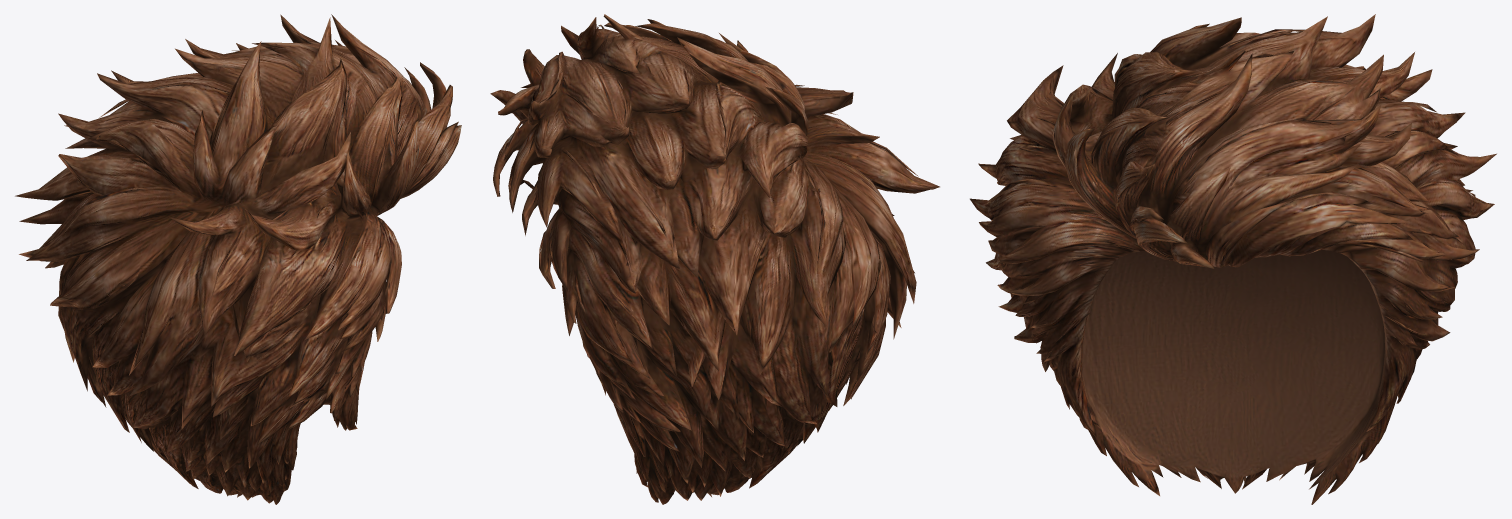
File: crop.glb
3 views of the same model, side by side, from view 1: azimuth 30°, elevation 25°; view 2: azimuth 150°, elevation 25°; view 3: azimuth 270°, elevation 25° (orthographic). The views are drawn at different scales.
Parts seen in each view (by area): view 1: tripo_node_5c7aee2a-5df5-4b18-8791-c4ce81d2a557; view 2: tripo_node_5c7aee2a-5df5-4b18-8791-c4ce81d2a557; view 3: tripo_node_5c7aee2a-5df5-4b18-8791-c4ce81d2a557.
Boxes of the visible parts, x1=… form: tripo_node_5c7aee2a-5df5-4b18-8791-c4ce81d2a557: x1=15, y1=14, x2=461, y2=504; tripo_node_5c7aee2a-5df5-4b18-8791-c4ce81d2a557: x1=490, y1=14, x2=939, y2=504; tripo_node_5c7aee2a-5df5-4b18-8791-c4ce81d2a557: x1=970, y1=14, x2=1496, y2=504.
Bounding box in the file's own units: 0.8726 × 0.9759 × 0.9154.
1 material, 1 textured.
